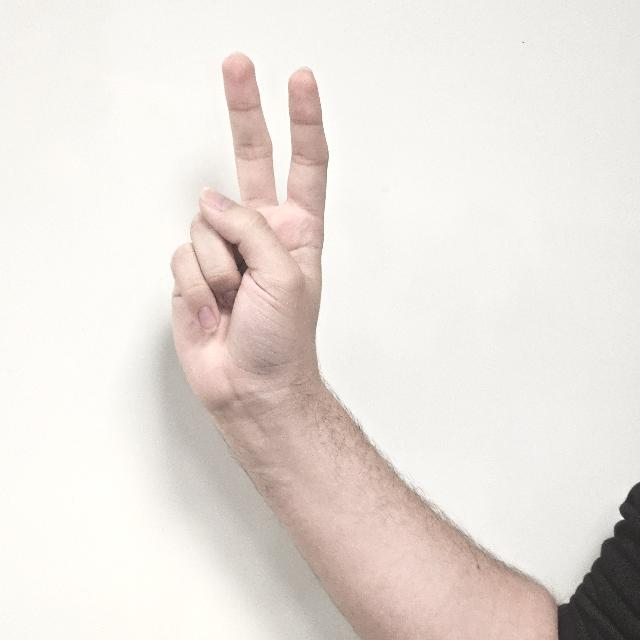Triangulo: (168, 53, 356, 444)
